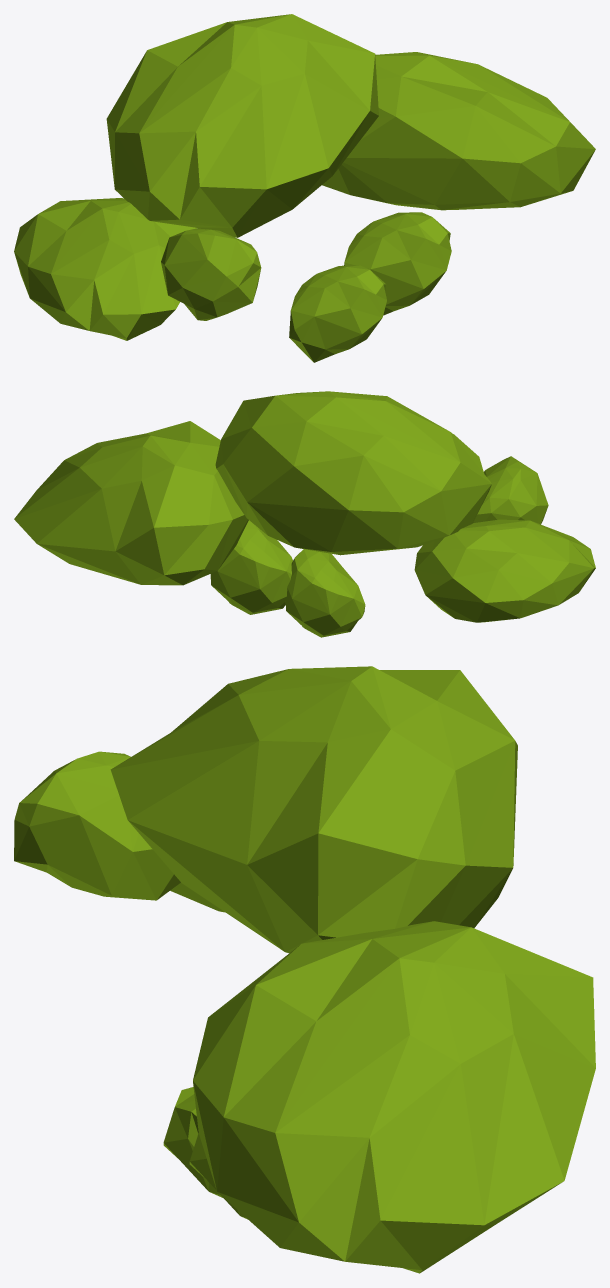
The model's file is tree-summer-leaves-5-049.glb.
3 renders of one model, top to bottom at view 1: azimuth 30°, elevation 25°; view 2: azimuth 150°, elevation 25°; view 3: azimuth 270°, elevation 25°, orthographic. The views are drawn at different scales.
Visible parts, largest first — view 1: TREE 5_296; view 2: TREE 5_296; view 3: TREE 5_296.
Boxes of the visible parts, x1,y1,x2,y2 form: TREE 5_296: (14,14,595,362); TREE 5_296: (14,391,595,637); TREE 5_296: (14,666,595,1273).
Bounding box in the file's own units: 1.99 × 1.05 × 1.12.
